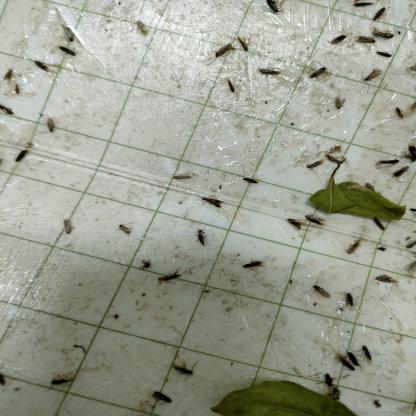prays_oleae: (243, 250, 269, 287), (307, 275, 331, 312), (57, 210, 78, 248), (172, 351, 196, 383), (48, 366, 74, 392), (200, 193, 227, 216), (257, 62, 282, 86), (335, 349, 358, 375), (327, 24, 346, 54), (308, 58, 329, 85), (342, 232, 362, 259), (372, 152, 400, 171), (12, 146, 35, 169), (28, 48, 48, 74), (374, 268, 393, 295), (212, 41, 233, 65), (174, 172, 198, 193), (150, 389, 177, 407), (371, 26, 398, 43), (60, 19, 79, 43), (359, 345, 378, 369), (264, 2, 289, 20), (195, 226, 210, 256), (154, 268, 182, 284), (371, 4, 387, 31), (236, 30, 250, 60), (348, 344, 362, 374), (306, 152, 324, 174), (241, 166, 259, 188), (44, 112, 58, 140), (356, 31, 376, 49), (54, 46, 75, 62), (343, 288, 357, 312), (138, 15, 153, 37), (305, 218, 324, 234), (0, 97, 15, 117), (285, 218, 301, 236), (394, 102, 405, 128), (355, 2, 375, 14), (395, 163, 412, 175), (409, 96, 416, 118), (370, 397, 382, 408), (12, 83, 22, 96), (406, 236, 416, 245)
